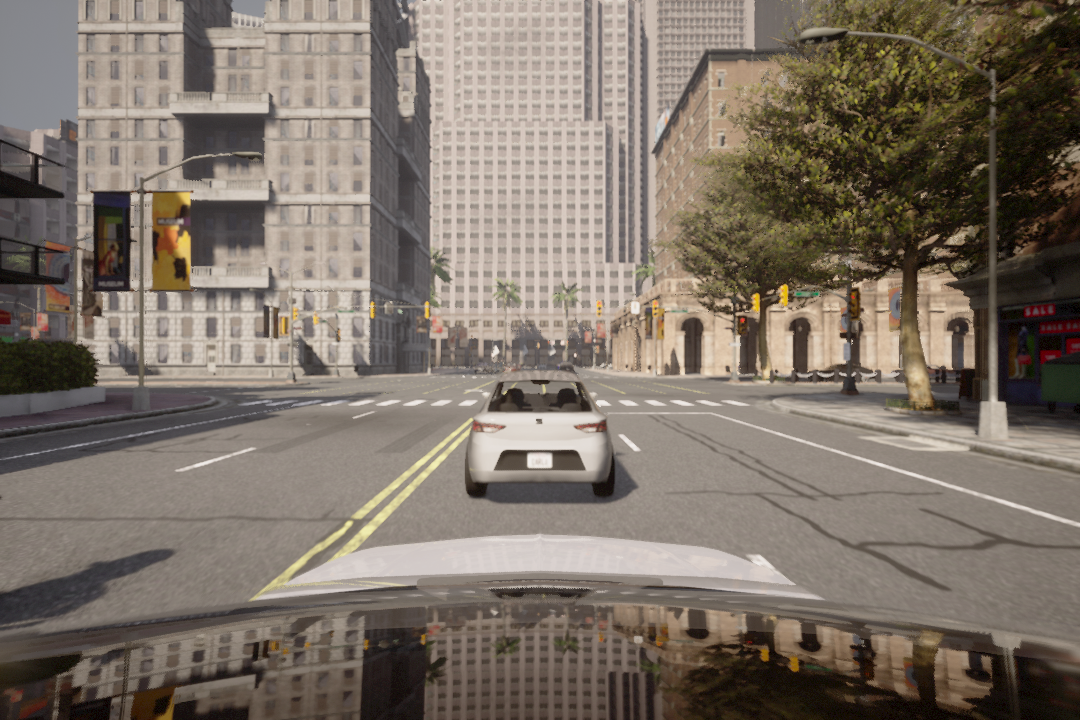walkside: (224, 397, 764, 414)
